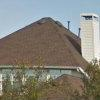Chimney: (75, 8, 100, 62)
